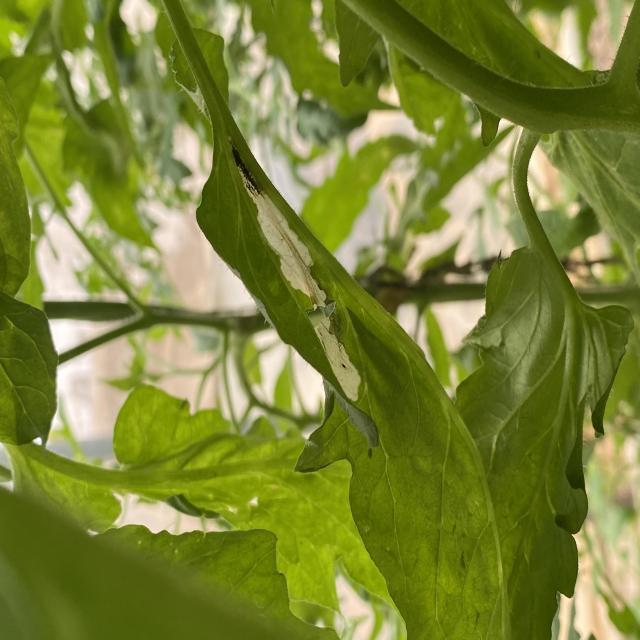Tuta absoluta: (225, 137, 374, 405)
